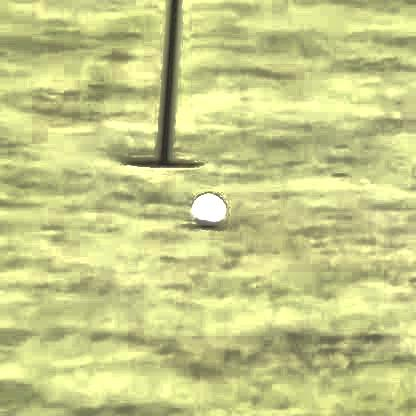golfball: (191, 186, 222, 222)
